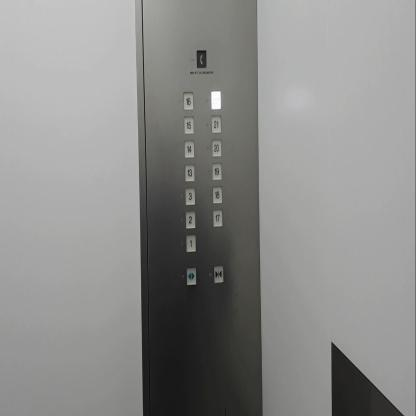1: (185, 234, 196, 252)
13: (184, 163, 195, 182)
14: (184, 139, 194, 158)
15: (183, 116, 194, 134)
16: (183, 91, 193, 111)
17: (212, 208, 222, 227)
18: (212, 185, 222, 203)
19: (212, 162, 222, 180)
2: (185, 210, 195, 229)
20: (211, 138, 222, 157)
21: (211, 115, 221, 134)
3: (184, 186, 195, 206)
blur: (210, 90, 222, 110)
call: (196, 49, 207, 68)
close: (213, 264, 223, 284)
open: (186, 266, 196, 286)
